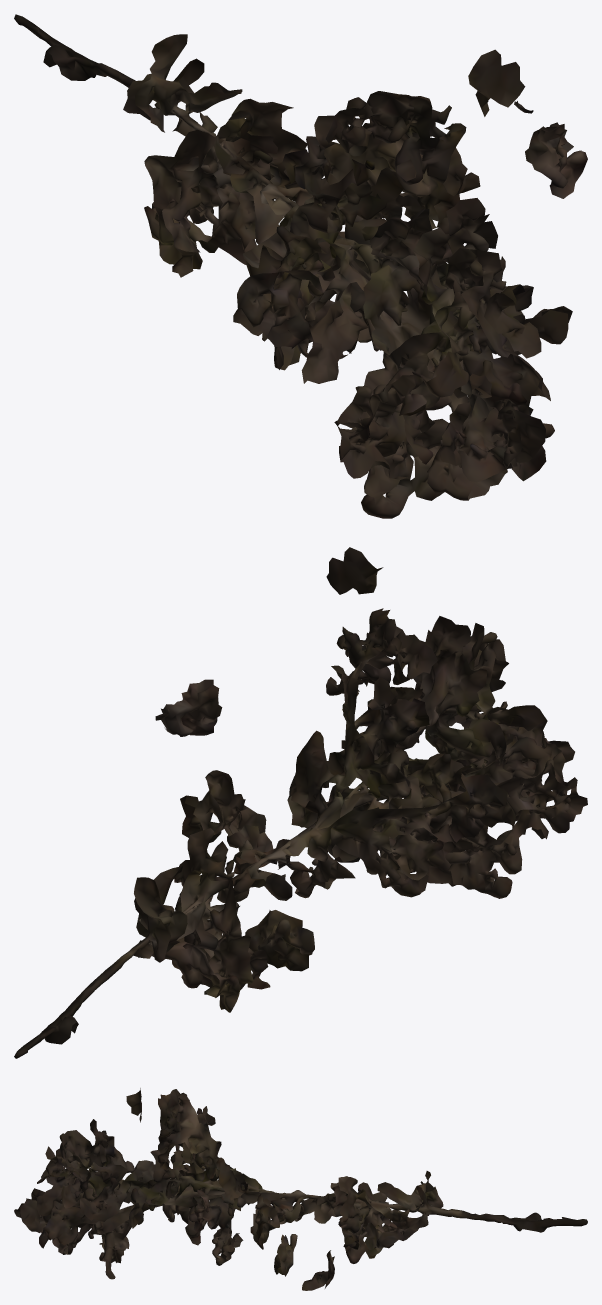
File: tree_mesh.dae
The picture shows the model from 3 angles, top to bottom: view 1: azimuth 30°, elevation 25°; view 2: azimuth 150°, elevation 25°; view 3: azimuth 270°, elevation 25°; orthographic projection. The views are drawn at different scales.
Parts seen in each view (by area): view 1: node0; view 2: node0; view 3: node0.
Part boxes in pixels (x1,y1,x2,y2): node0: (14,14,587,518); node0: (14,547,587,1058); node0: (14,1088,587,1290).
Size of the model in its own units: 7.43 by 7.69 by 19.23.
